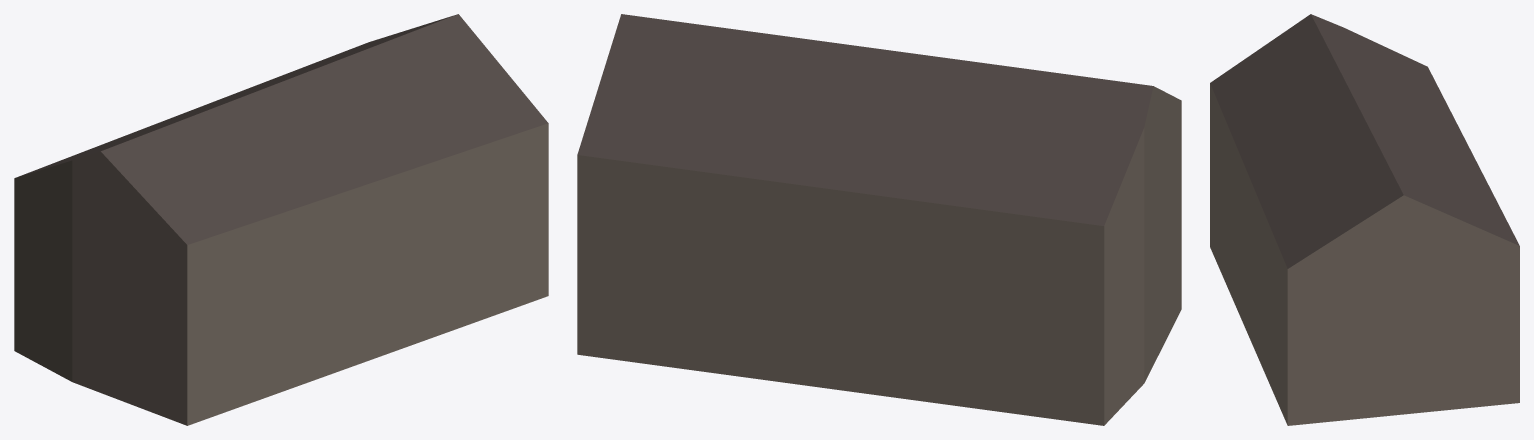
The picture shows the model from 3 angles, left to right: view 1: azimuth 30°, elevation 25°; view 2: azimuth 150°, elevation 25°; view 3: azimuth 270°, elevation 25°; orthographic projection. The views are drawn at different scales.
Parts seen in each view (by area): view 1: HP-w1516161903; view 2: HP-w1516161903; view 3: HP-w1516161903.
Part boxes in pixels (x1,y1,x2,y2): HP-w1516161903: (14,14,548,425); HP-w1516161903: (577,14,1181,425); HP-w1516161903: (1210,14,1519,425).
Bounding box in the file's own units: 16.6 × 8.39 × 10.74.
